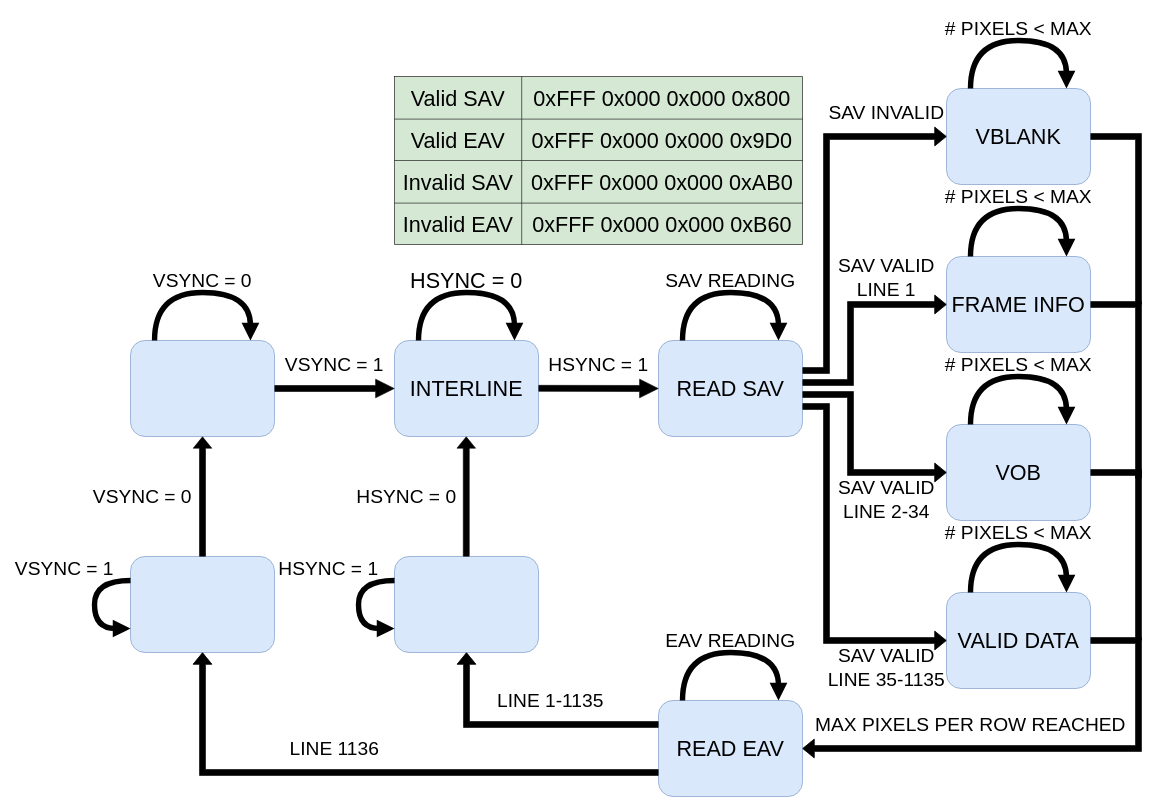
The diagram is 1152 pixels wide and 807 high, and some of its shapes have lost their labels. The centre of each missing label's shape, as x and y in pixels:
"AWAIT FRAME" goes at point 202,604.
"HBLANK" goes at point 466,604.
"INTERFRAME" goes at point 202,388.
